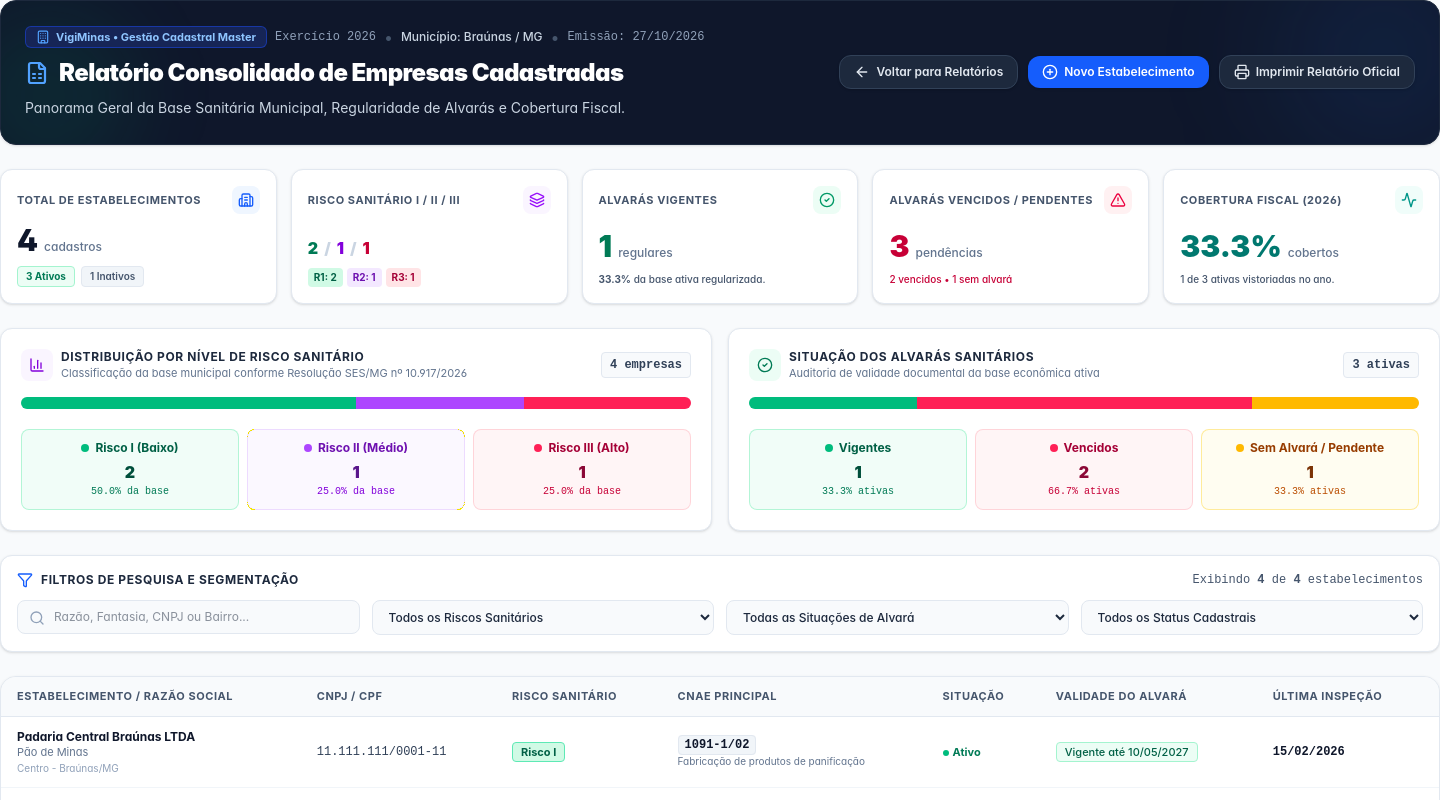
Test: RelatorioEmpresasConsolidadasPage (US-07 - Relatório Master) › filtra estabelecimentos pelo dropdown de status cadastral
The image size is (1440, 800).
Select "Apenas Inativos" in the 3rd dropdown showing "Todos os Status Cadastrais" at (1252, 618), box [1080,600,1423,635]
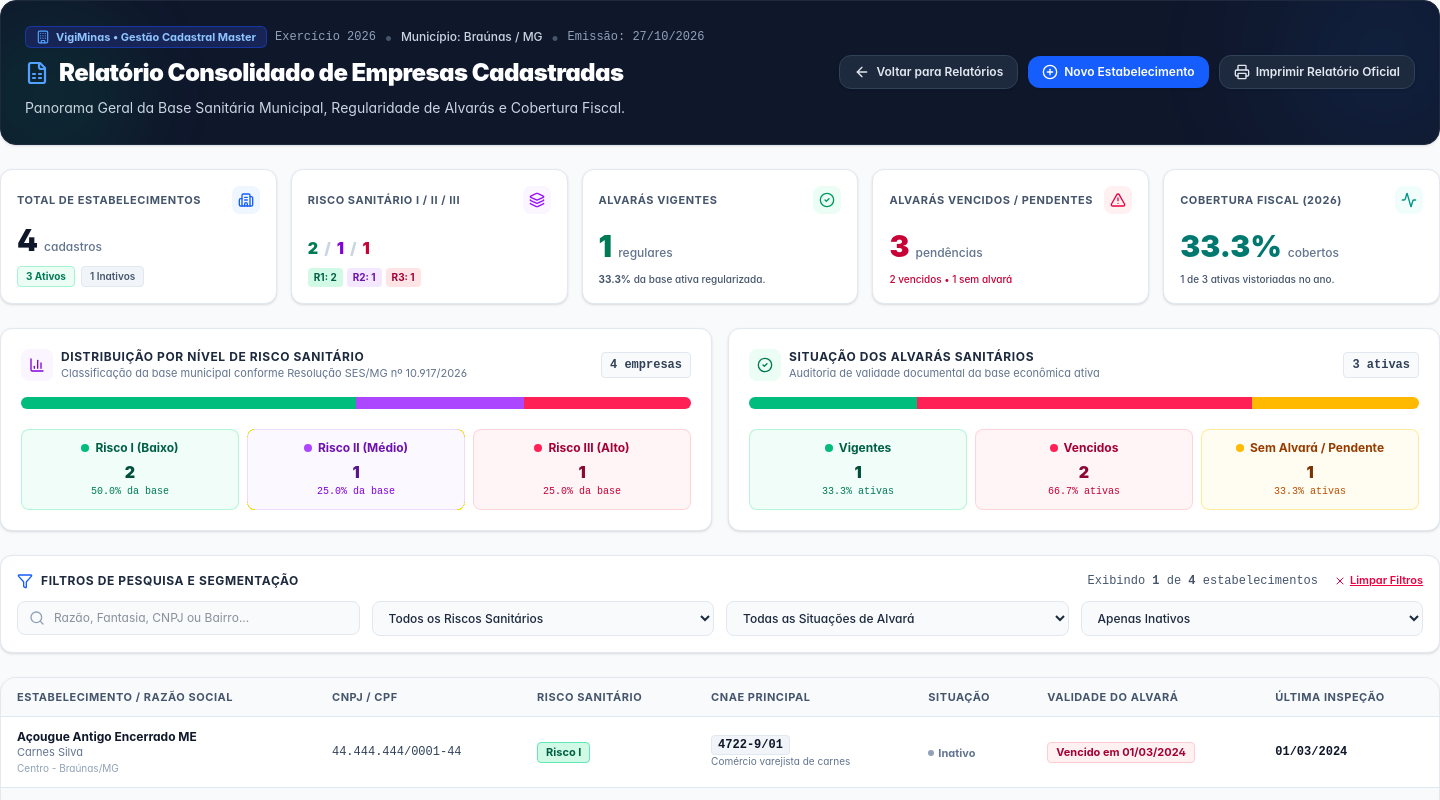
Expected: the text "Açougue Antigo Encerrado ME" is shown, [17,729,197,744]
Expected: the text "Padaria Central Braúnas LTDA" is gone
